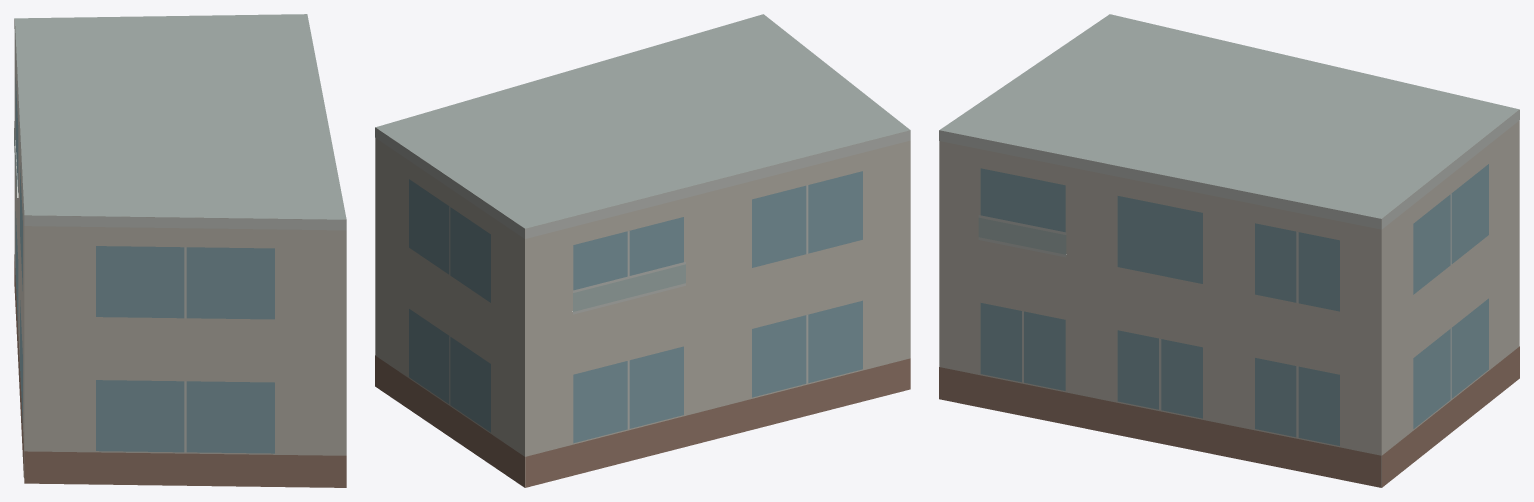
The model's file is survey-upis-32732206.glb.
3 views of the same model, side by side, from view 1: azimuth 30°, elevation 25°; view 2: azimuth 150°, elevation 25°; view 3: azimuth 270°, elevation 25° (orthographic). The views are drawn at different scales.
Visible parts, largest first — view 1: survey-upis-32732206.tmp; view 2: survey-upis-32732206.tmp; view 3: survey-upis-32732206.tmp.
Boxes of the visible parts, box(x1,y1,x2,y2) form: survey-upis-32732206.tmp: box(14, 14, 346, 487); survey-upis-32732206.tmp: box(375, 14, 910, 487); survey-upis-32732206.tmp: box(939, 14, 1519, 487).
Size of the model in its own units: 9.97 by 6.1 by 11.94.
